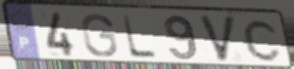4: (44, 11, 77, 59)
9: (163, 14, 200, 62)
C: (242, 17, 284, 63)
G: (79, 13, 119, 58)
L: (120, 14, 159, 60)
V: (197, 14, 238, 64)
